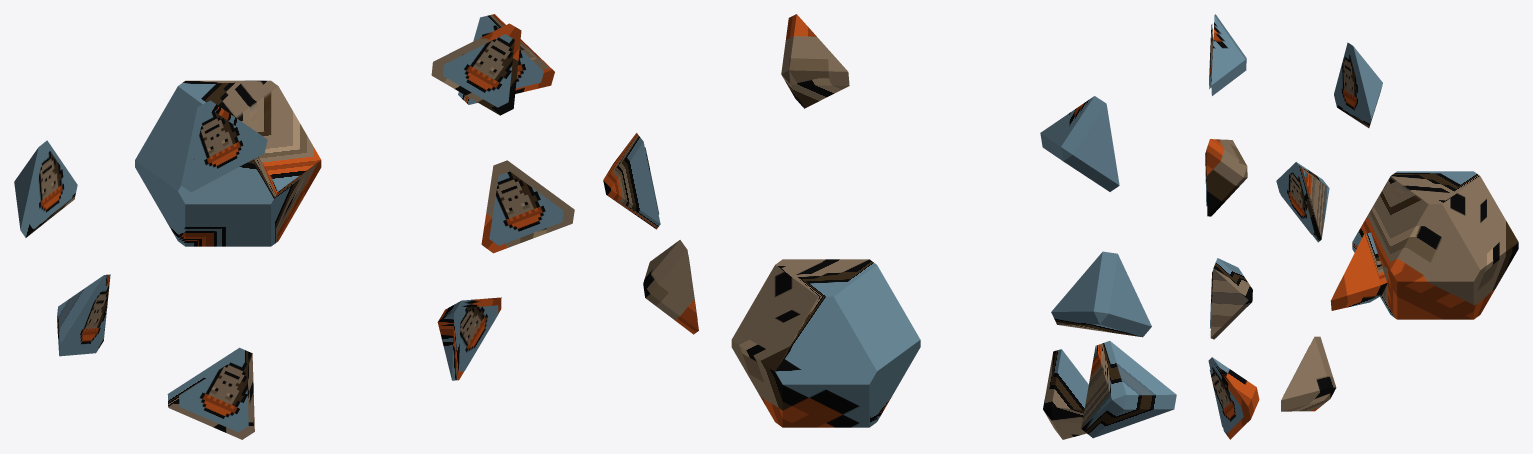
Rendered from artifact-split.glb.
3 views of the same model, side by side, from view 1: azimuth 30°, elevation 25°; view 2: azimuth 150°, elevation 25°; view 3: azimuth 270°, elevation 25° (orthographic). The views are drawn at different scales.
Parts seen in each view (by area): view 1: Cube, CubePanel.001, CubePanel.005, CubePanel.002, CubePanel.007, CubeCorner.001, CubeCorner.005, CubeCorner.002, CubePanel.008, CubeCorner.008, CubeCorner.006, CubeCorner.007 (+5 smaller); view 2: Cube, CubeCorner.006, CubeCorner.008, CubeCorner.007, CubeCorner.002, CubeCorner.001, CubeCorner.004, CubeCorner.005; view 3: Cube, CubeCorner.001, CubeCorner.004, CubeCorner.002, CubeCorner.005, CubeCorner.007, CubeCorner.008, CubeCorner.006, CubeCorner.003, CubePanel.008, CubePanel.003, CubePanel.006.
Boxes of the visible parts, bbox=[...] form: Cube: bbox=[135, 80, 321, 246]; CubePanel.001: bbox=[489, 171, 563, 245]; CubePanel.005: bbox=[179, 358, 248, 432]; CubePanel.002: bbox=[443, 34, 514, 107]; CubePanel.007: bbox=[190, 111, 259, 184]; CubeCorner.001: bbox=[481, 160, 574, 253]; CubeCorner.005: bbox=[167, 347, 254, 439]; CubeCorner.002: bbox=[431, 23, 521, 115]; CubePanel.008: bbox=[29, 151, 74, 228]; CubeCorner.008: bbox=[14, 140, 77, 237]; CubeCorner.006: bbox=[57, 274, 110, 356]; CubeCorner.007: bbox=[181, 100, 267, 192]; Cube: bbox=[731, 259, 920, 427]; CubeCorner.006: bbox=[1081, 341, 1176, 438]; CubeCorner.008: bbox=[1051, 251, 1151, 337]; CubeCorner.007: bbox=[1040, 96, 1119, 191]; CubeCorner.002: bbox=[781, 14, 849, 108]; CubeCorner.001: bbox=[643, 240, 698, 334]; CubeCorner.004: bbox=[603, 133, 660, 229]; CubeCorner.005: bbox=[1043, 349, 1088, 439]; Cube: bbox=[1352, 171, 1518, 319]; CubeCorner.001: bbox=[1281, 336, 1336, 411]; CubeCorner.004: bbox=[1330, 232, 1387, 310]; CubeCorner.002: bbox=[1206, 139, 1247, 216]; CubeCorner.005: bbox=[1210, 258, 1252, 339]; CubeCorner.007: bbox=[1211, 14, 1246, 95]; CubeCorner.008: bbox=[1334, 42, 1382, 127]; CubeCorner.006: bbox=[1276, 162, 1329, 242]; CubeCorner.003: bbox=[1208, 357, 1259, 439]; CubePanel.008: bbox=[1334, 52, 1364, 120]; CubePanel.003: bbox=[1209, 367, 1243, 433]; CubePanel.006: bbox=[1278, 170, 1314, 234].
Bounding box in the file's own units: 8.64 × 5.51 × 4.92.
Materials: 1 (1 with a texture image).
